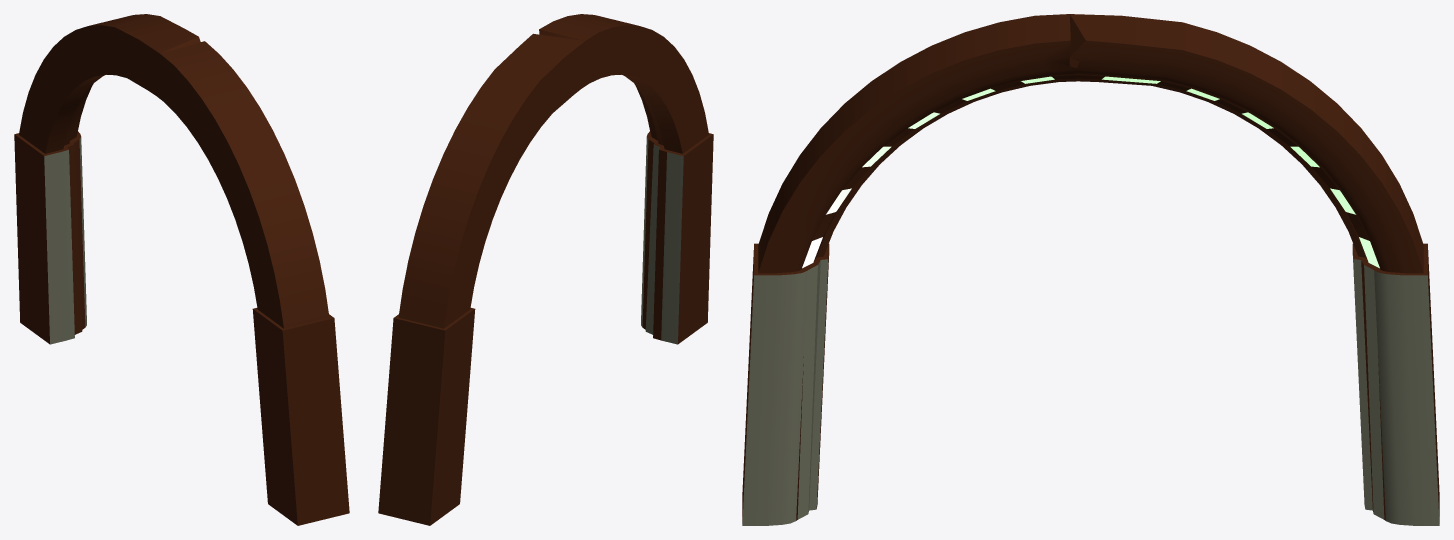
File: arch.fbx
3 views of the same model, side by side, from view 1: azimuth 30°, elevation 25°; view 2: azimuth 150°, elevation 25°; view 3: azimuth 270°, elevation 25° (orthographic). The views are drawn at different scales.
Visible parts, largest first — view 1: Cube; view 2: Cube; view 3: Cube.
Boxes of the visible parts, x1,y1,x2,y2 form: Cube: [14, 14, 349, 525]; Cube: [378, 14, 713, 525]; Cube: [742, 14, 1439, 525].
Bounding box in the file's own units: 241 × 1406 × 1856.
